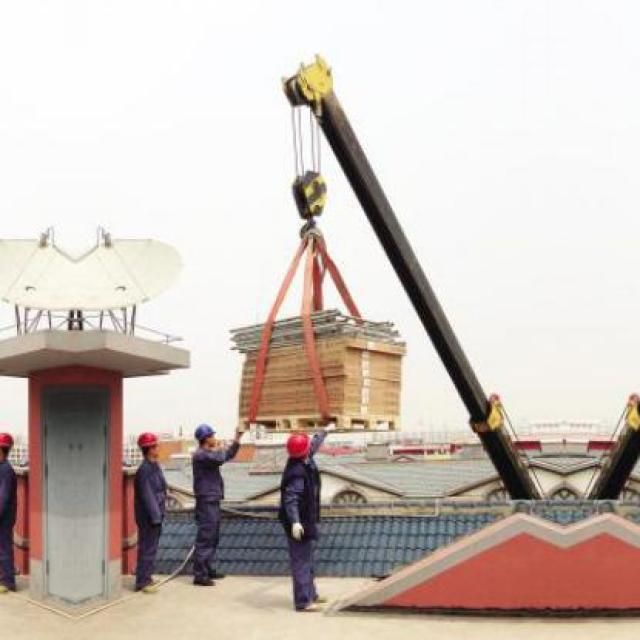helmet: (286, 428, 312, 462), (134, 429, 159, 464), (192, 420, 217, 451), (0, 428, 19, 465)
